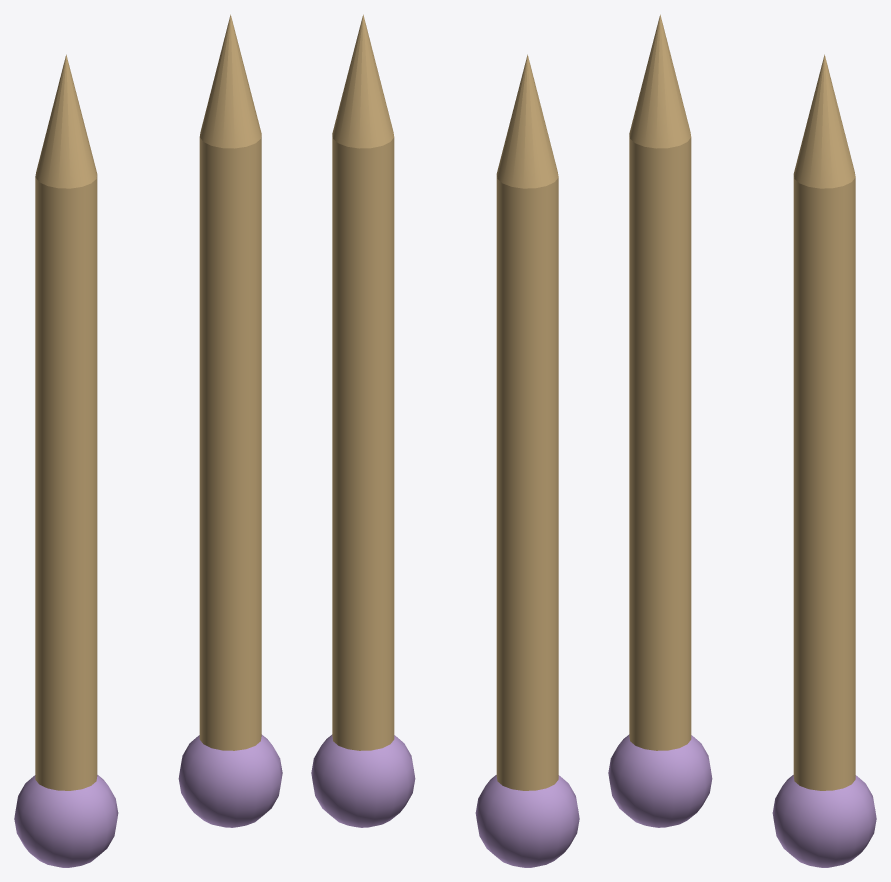
Rendered from knitting-needle.glb.
3 renders of one model, left to right at view 1: azimuth 30°, elevation 25°; view 2: azimuth 150°, elevation 25°; view 3: azimuth 330°, elevation 25°, orthographic.
Parts seen in each view (by area): view 1: Needle_shaft_right, Needle_shaft_left, Needle_stop_left, Needle_stop_right, Needle_tip_left, Needle_tip_right; view 2: Needle_shaft_right, Needle_shaft_left, Needle_stop_left, Needle_stop_right, Needle_tip_left, Needle_tip_right; view 3: Needle_shaft_left, Needle_shaft_right, Needle_stop_right, Needle_stop_left, Needle_tip_right, Needle_tip_left.
Part boxes in pixels (x1,y1,x2,y2): Needle_shaft_right: [199, 135, 261, 750]; Needle_shaft_left: [35, 175, 97, 790]; Needle_stop_left: [14, 775, 118, 867]; Needle_stop_right: [178, 734, 282, 827]; Needle_tip_left: [35, 54, 97, 188]; Needle_tip_right: [199, 14, 261, 148]; Needle_shaft_right: [332, 135, 394, 750]; Needle_shaft_left: [496, 175, 558, 790]; Needle_stop_left: [475, 775, 579, 867]; Needle_stop_right: [311, 734, 415, 827]; Needle_tip_left: [496, 54, 558, 188]; Needle_tip_right: [332, 14, 394, 148]; Needle_shaft_left: [629, 135, 691, 750]; Needle_shaft_right: [793, 175, 855, 790]; Needle_stop_right: [772, 775, 876, 867]; Needle_stop_left: [608, 734, 712, 827]; Needle_tip_right: [793, 54, 855, 188]; Needle_tip_left: [629, 14, 691, 148].
Bounding box in the file's own units: 0.264 × 0.8 × 0.094.
